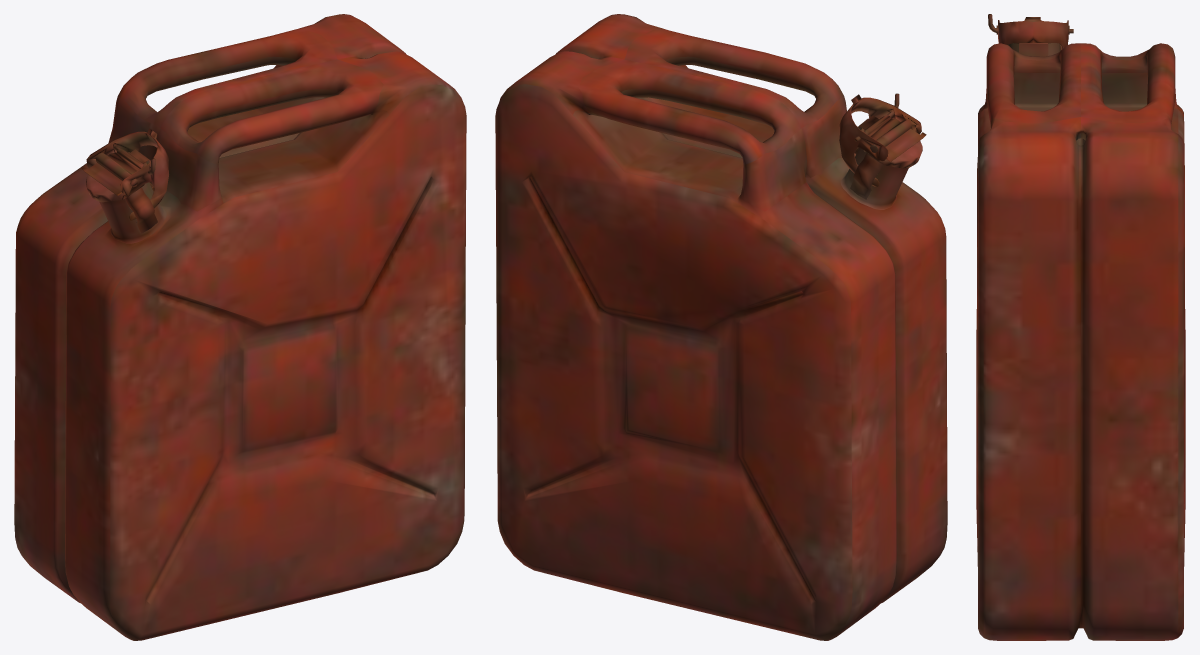
File: metal_jerrycan.glb
3 renders of one model, left to right at view 1: azimuth 30°, elevation 25°; view 2: azimuth 150°, elevation 25°; view 3: azimuth 270°, elevation 25°, orthographic. The views are drawn at different scales.
Parts seen in each view (by area): view 1: metal_jerrycan; view 2: metal_jerrycan; view 3: metal_jerrycan.
Part boxes in pixels (box(x1,y1,x2,y2)): metal_jerrycan: box(14, 14, 466, 640); metal_jerrycan: box(495, 14, 947, 640); metal_jerrycan: box(976, 14, 1185, 640).
Size of the model in its own units: 0.35 by 0.4548 by 0.1717.
Materials: 1 (1 with a texture image).
